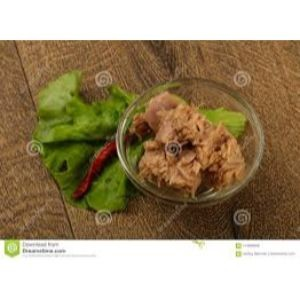tuna_brain food: (127, 86, 252, 194)
